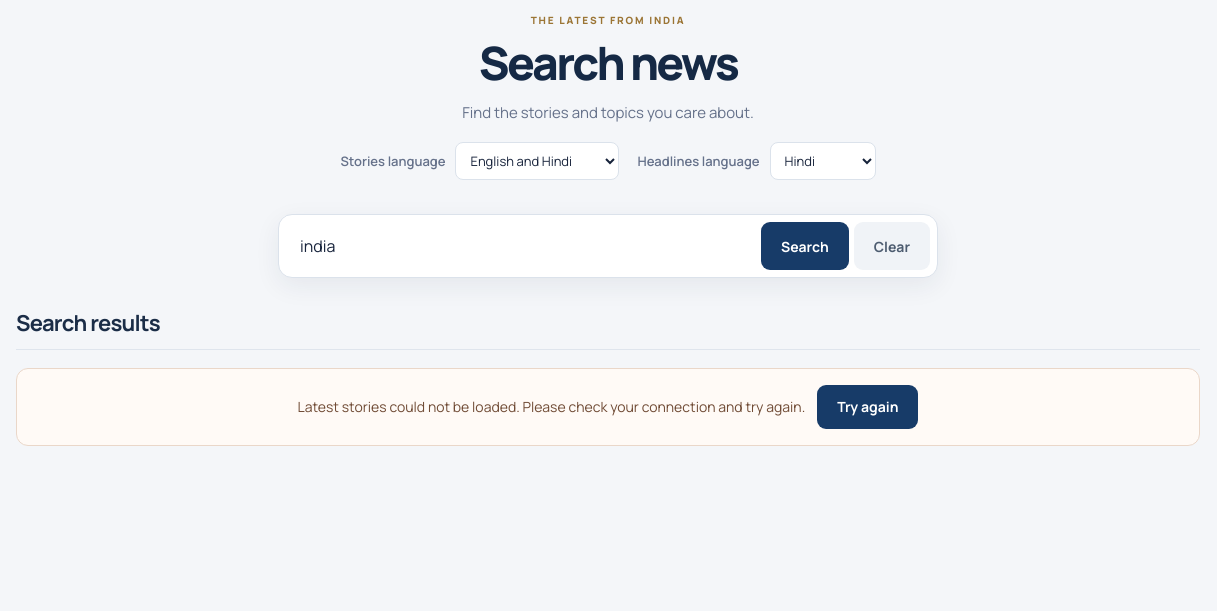
Test: shows a recoverable state when a news request fails
Check: the message shows "Latest stories could not be loaded", box [298,397,805,416]
Check: the button "Try again" is shown, box [817,385,918,429]
Click the button "Clear".
click(892, 246)  # box [854,222,930,270]
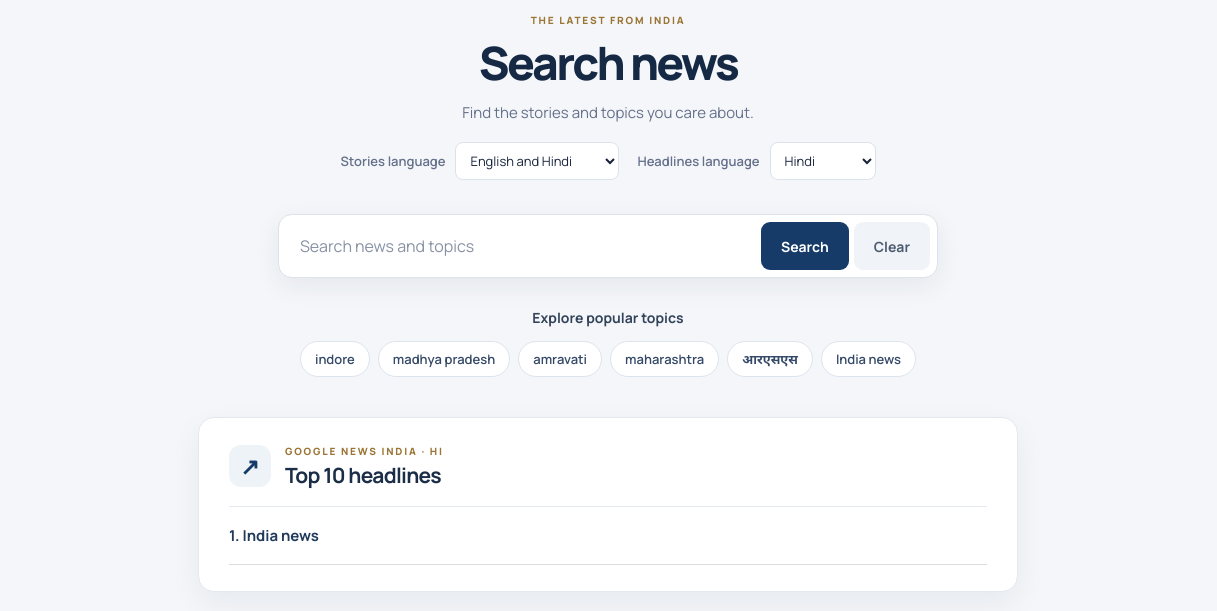
Check: the message "Latest stories could not be loaded. Please check your connection and try again." is gone
